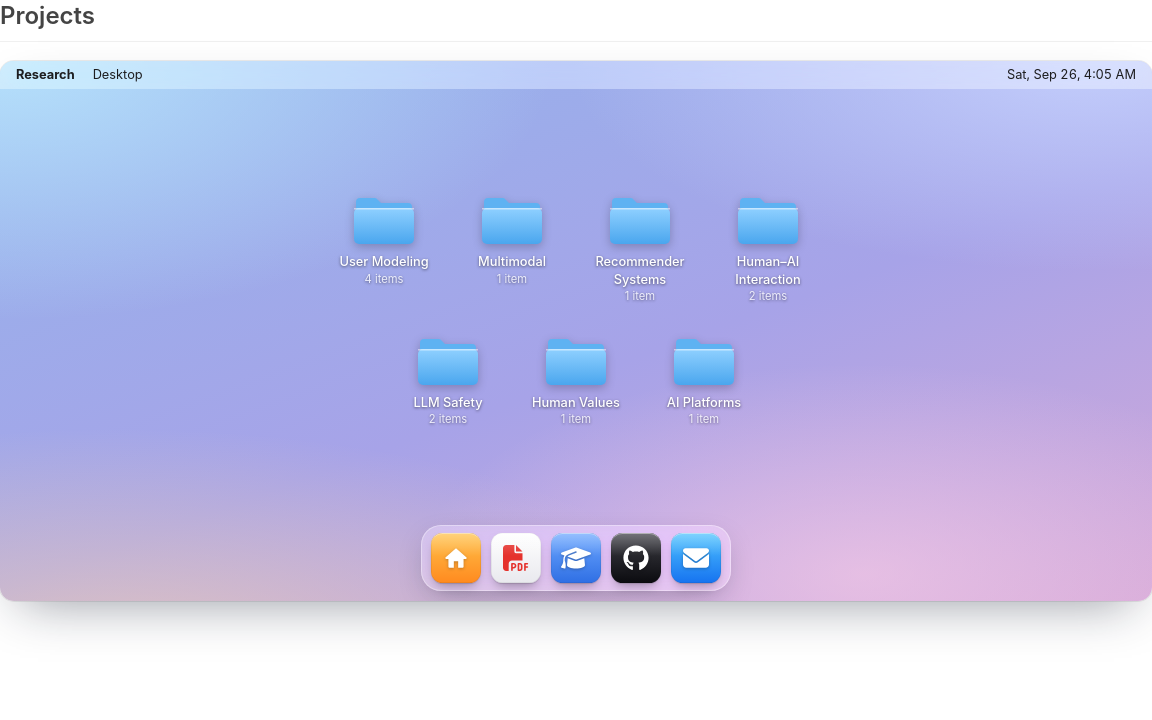
Test: ProjectsDesktop › opens a project window with its description and links
Click the button with aria-label "User Modeling folder" at (384, 248), box [328, 186, 440, 309]
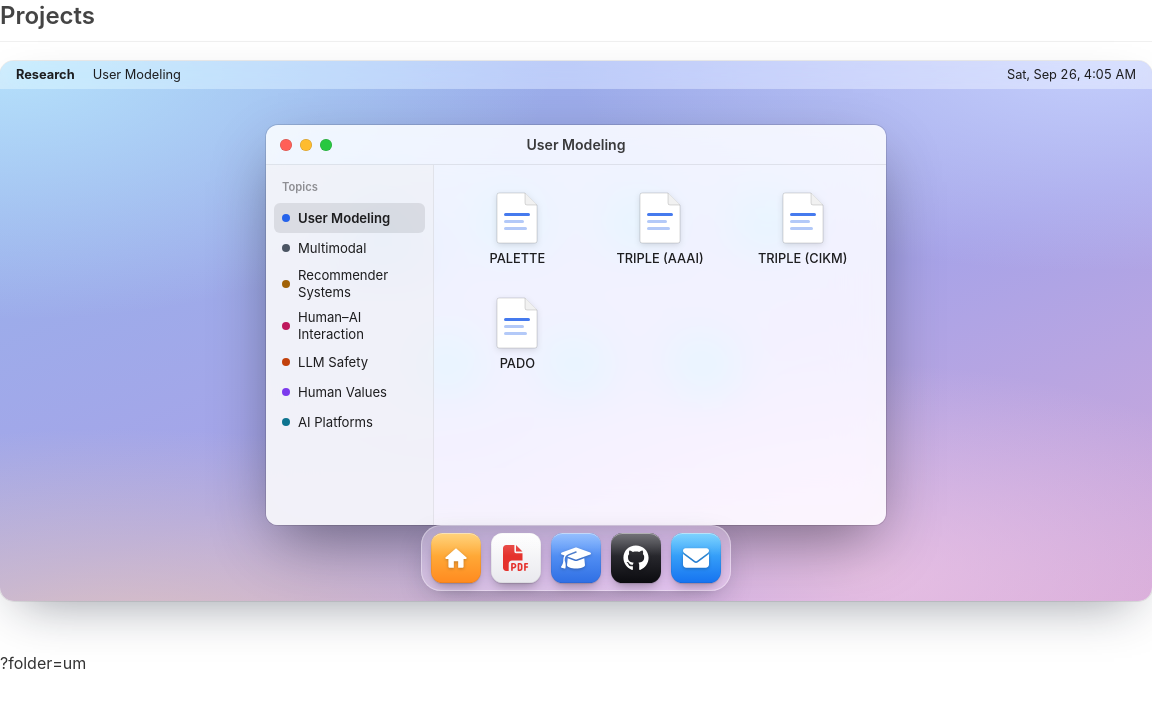
Click the button "PADO" at (517, 334), box [450, 286, 585, 382]
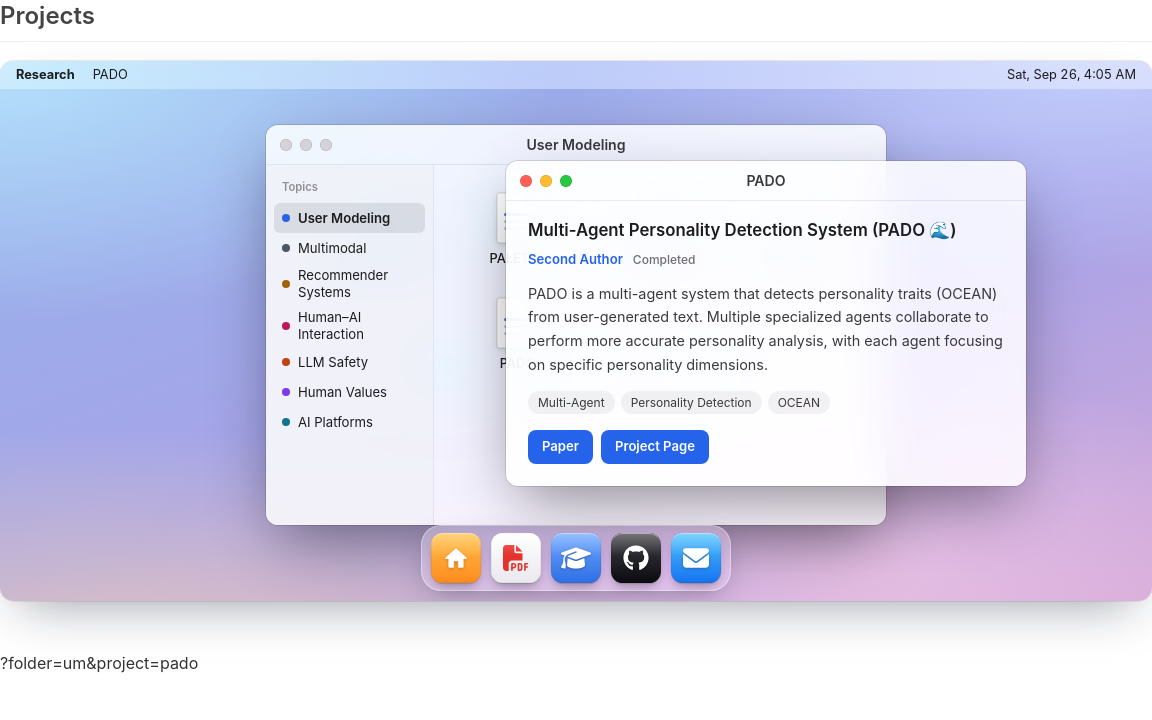
Expected: the text "multi-agent system" is shown, [528, 285, 1003, 373]
